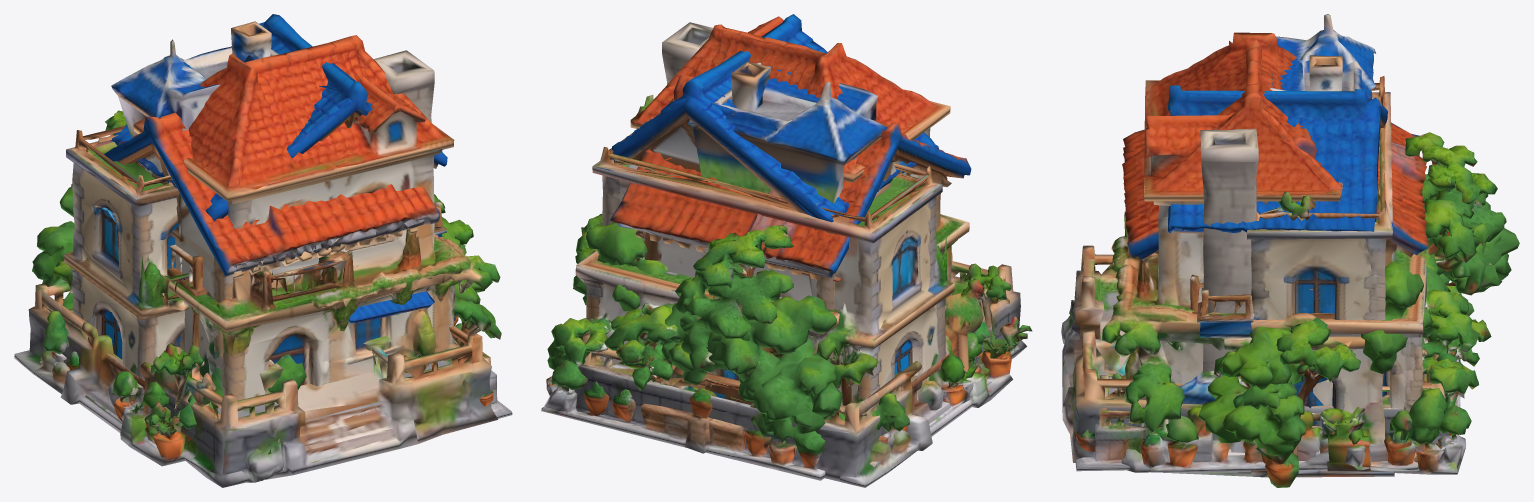
The model's file is env_villas_v004.glb.
3 views of the same model, side by side, from view 1: azimuth 30°, elevation 25°; view 2: azimuth 150°, elevation 25°; view 3: azimuth 270°, elevation 25° (orthographic). The views are drawn at different scales.
Parts seen in each view (by area): view 1: villa_b, villa_a, villa_c, villa_d; view 2: villa_b, villa_c, villa_a, villa_d; view 3: villa_a, villa_b, villa_c, villa_d.
Boxes of the visible parts, <box> form: villa_b: <box>14,50,497,487</box>; villa_a: <box>62,35,512,443</box>; villa_c: <box>40,21,465,448</box>; villa_d: <box>110,14,449,392</box>; villa_b: <box>573,22,1032,487</box>; villa_c: <box>575,61,991,467</box>; villa_a: <box>541,16,993,480</box>; villa_d: <box>586,14,938,408</box>; villa_a: <box>1075,32,1506,474</box>; villa_b: <box>1061,122,1519,487</box>; villa_c: <box>1151,14,1419,472</box>; villa_d: <box>1120,85,1461,426</box>.
Size of the model in its own units: 11.1 by 9.27 by 11.06.
Materials: 1 (1 with a texture image).
